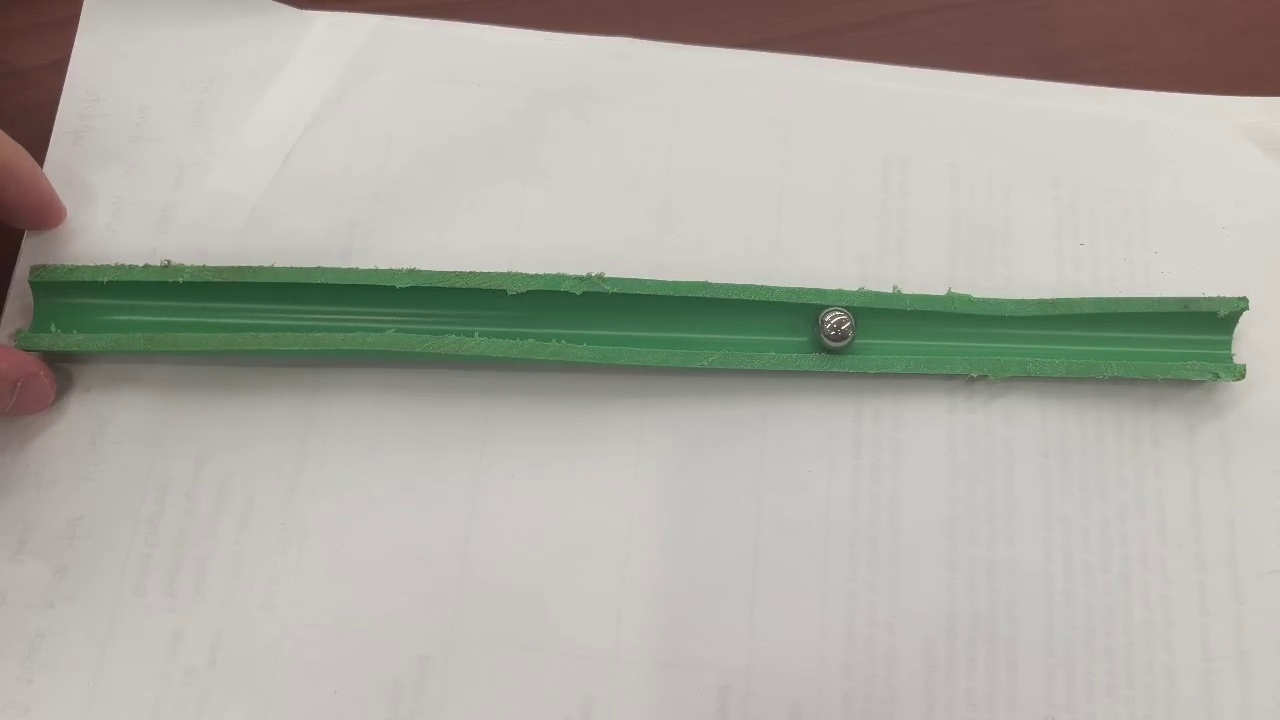ball: (819, 310, 854, 347)
